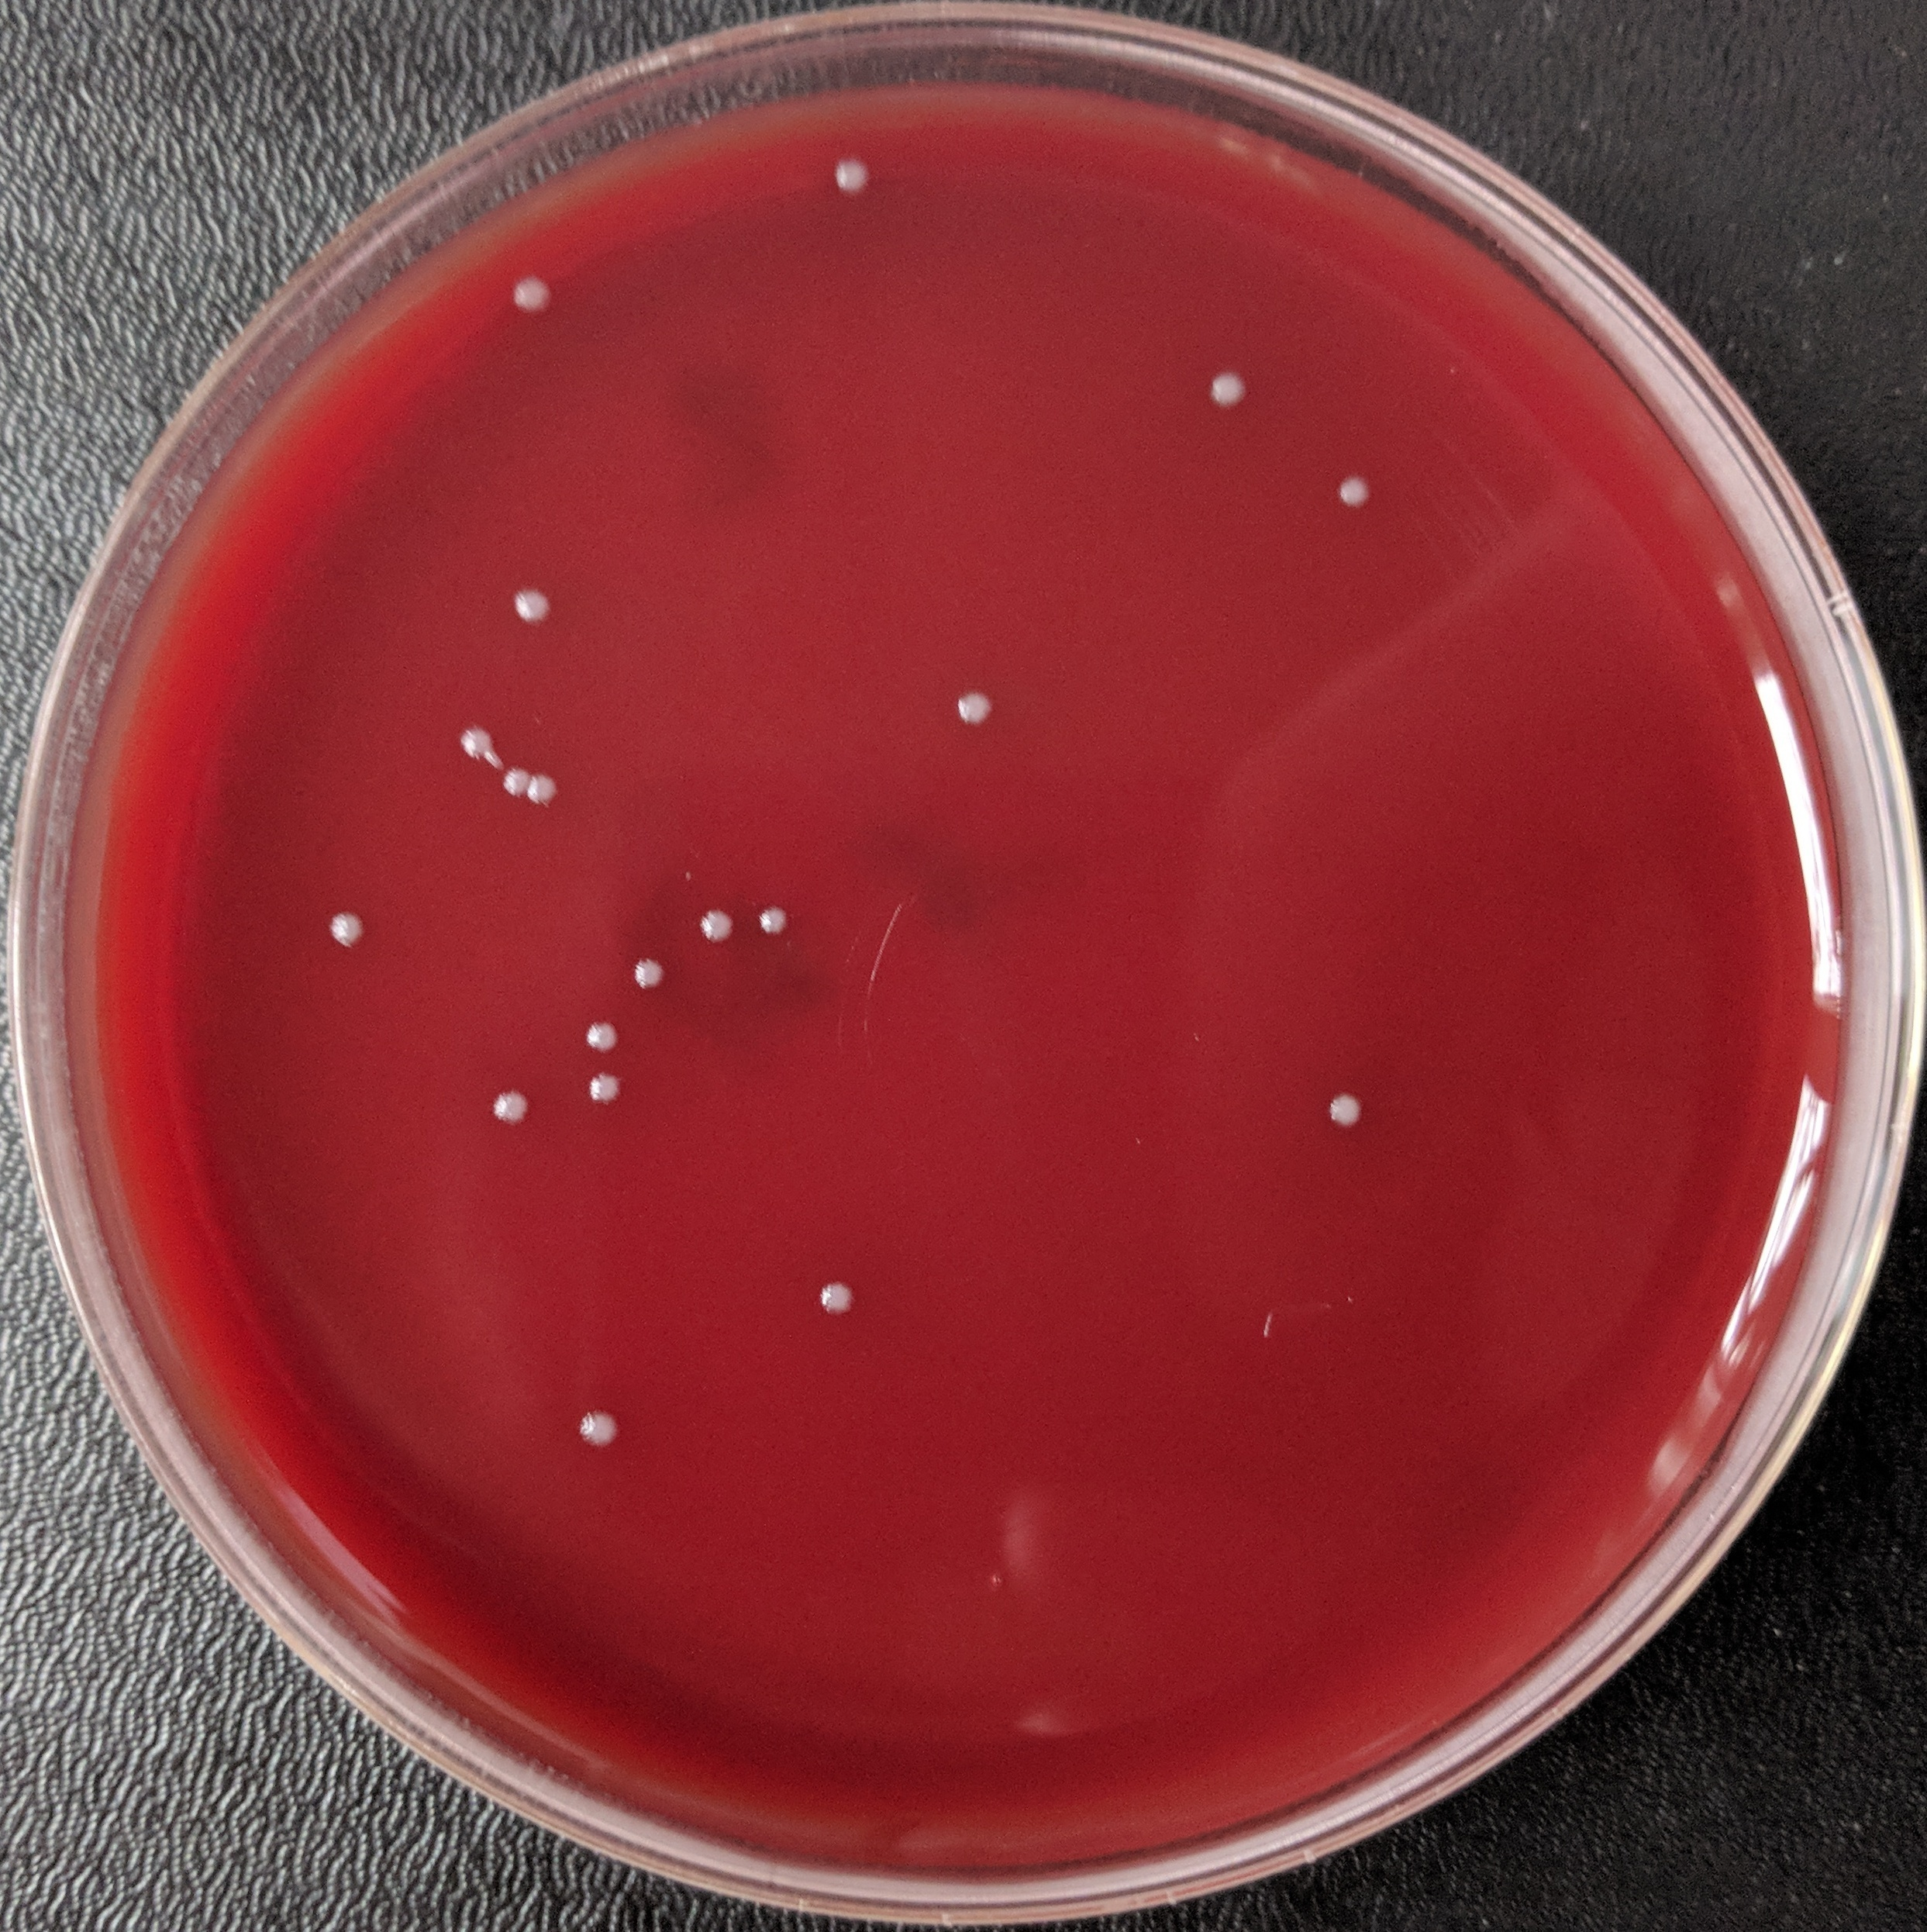sp15: (623, 946, 676, 1006), (822, 148, 875, 201), (1320, 1078, 1366, 1138), (501, 275, 563, 319), (570, 1016, 630, 1060), (814, 1274, 861, 1325), (574, 1403, 621, 1454), (491, 1078, 535, 1129), (692, 902, 739, 947), (754, 893, 794, 946), (325, 909, 372, 953), (951, 686, 999, 729), (1205, 367, 1251, 409), (508, 584, 551, 626), (1338, 468, 1376, 512), (581, 1075, 623, 1113), (529, 766, 561, 813), (459, 723, 492, 766), (499, 768, 531, 803)
